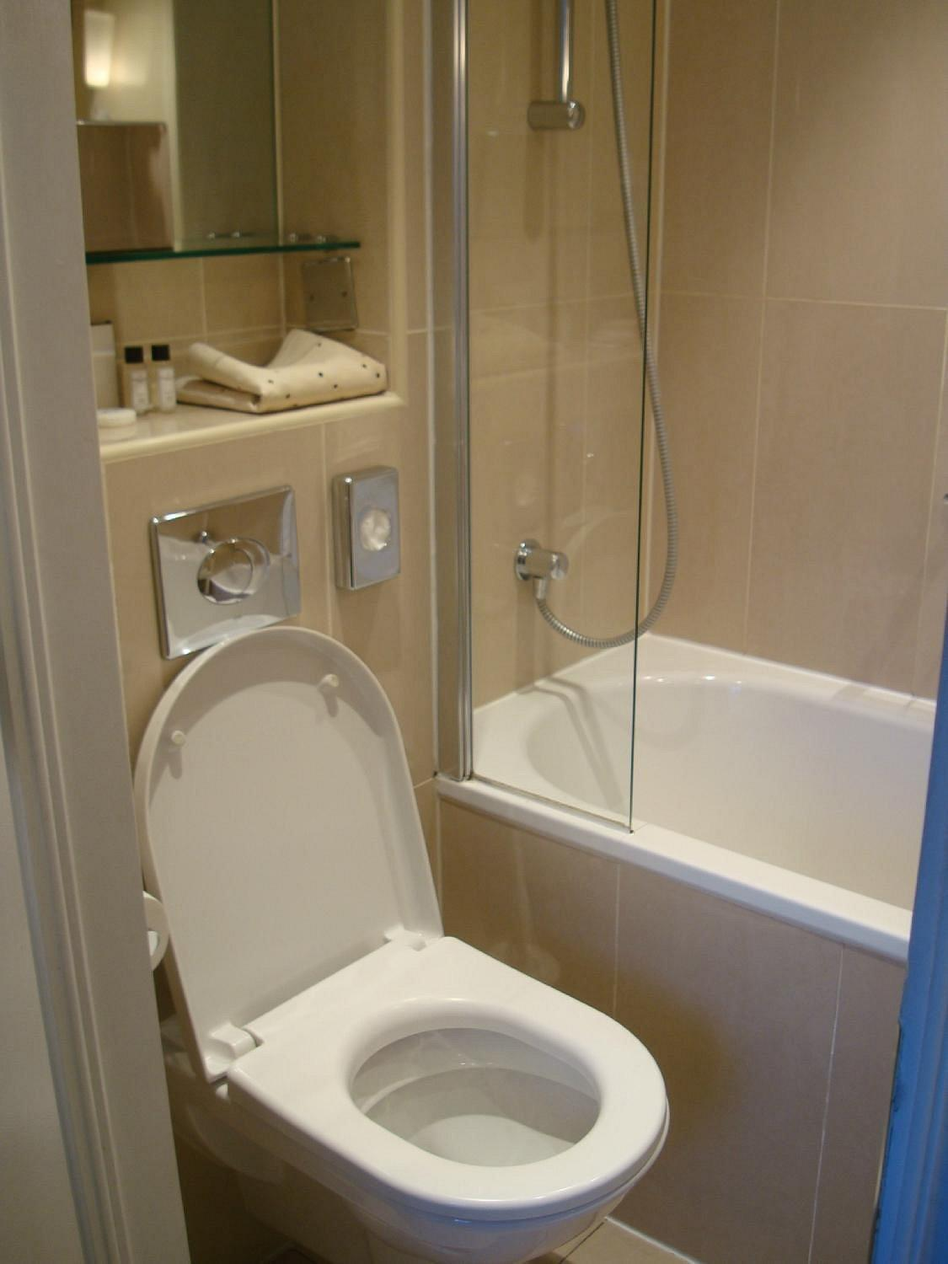clean_bathtub: (430, 621, 946, 937)
folded_towel: (166, 324, 404, 409)
